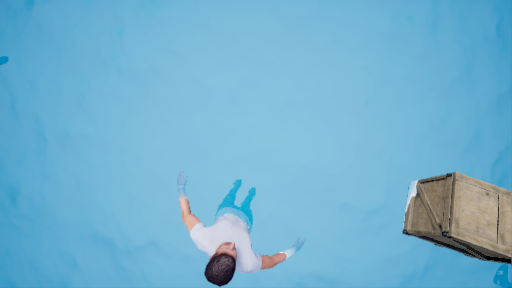person: (175, 172, 307, 282)
